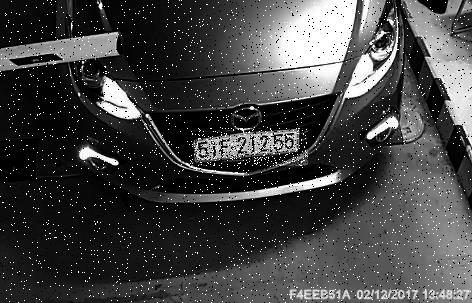License-plate: (191, 129, 309, 167)
